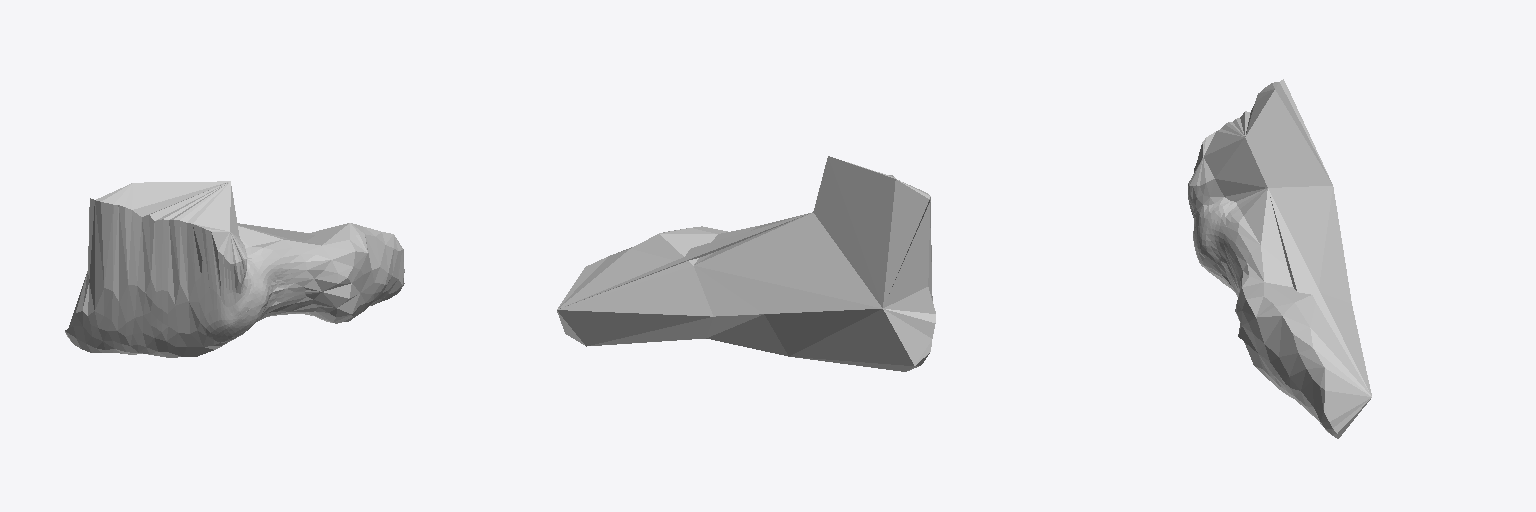
File: cleftAlveoliLevelset.obj
3 views of the same model, side by side, from view 1: azimuth 30°, elevation 25°; view 2: azimuth 150°, elevation 25°; view 3: azimuth 270°, elevation 25° (orthographic).
Parts seen in each view (by area): view 1: objMat.001; view 2: objMat.001; view 3: objMat.001.
Boxes of the visible parts, x1=… form: objMat.001: x1=65, y1=181, x2=404, y2=357; objMat.001: x1=557, y1=156, x2=935, y2=371; objMat.001: x1=1188, y1=79, x2=1371, y2=438.
Size of the model in its own units: 1.69 by 0.9663 by 0.7647.